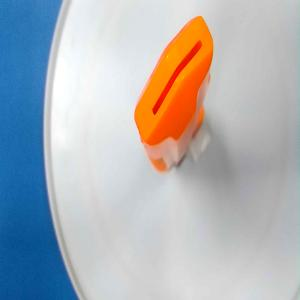estilete: (133, 15, 214, 175)
